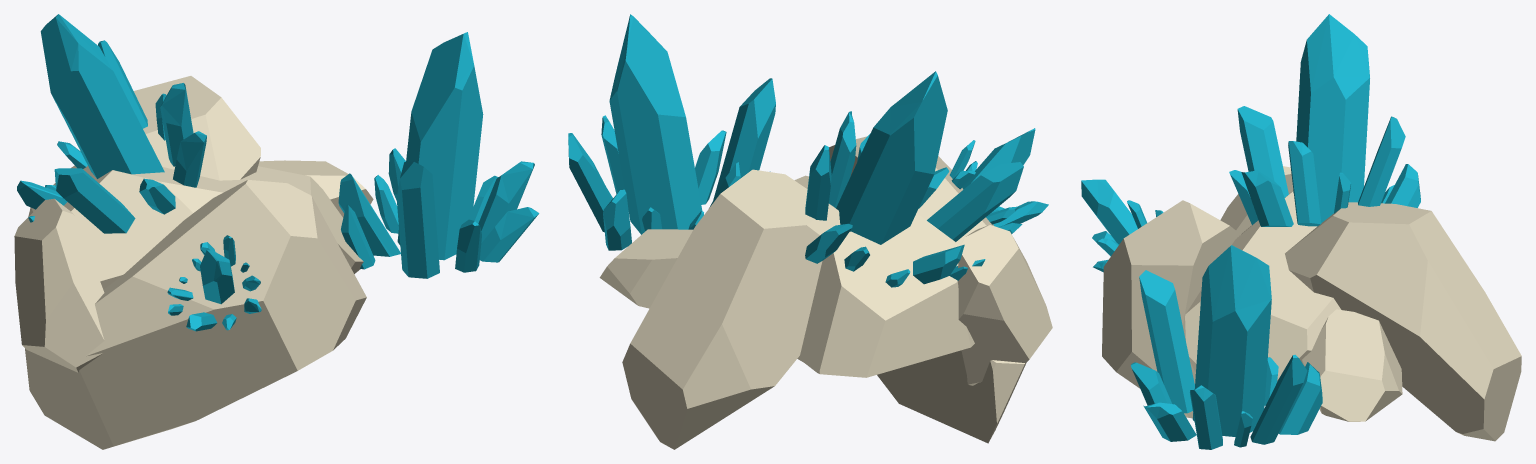
File: CrystalRocks3.fbx
3 views of the same model, side by side, from view 1: azimuth 30°, elevation 25°; view 2: azimuth 150°, elevation 25°; view 3: azimuth 270°, elevation 25° (orthographic). The views are drawn at different scales.
Parts seen in each view (by area): view 1: Cylinder.043; view 2: Cylinder.043; view 3: Cylinder.043.
Boxes of the visible parts, box(x1,y1,x2,y2) form: Cylinder.043: box(14, 14, 539, 449); Cylinder.043: box(568, 14, 1052, 449); Cylinder.043: box(1081, 14, 1521, 449).
Size of the model in its own units: 301 by 242 by 255.
